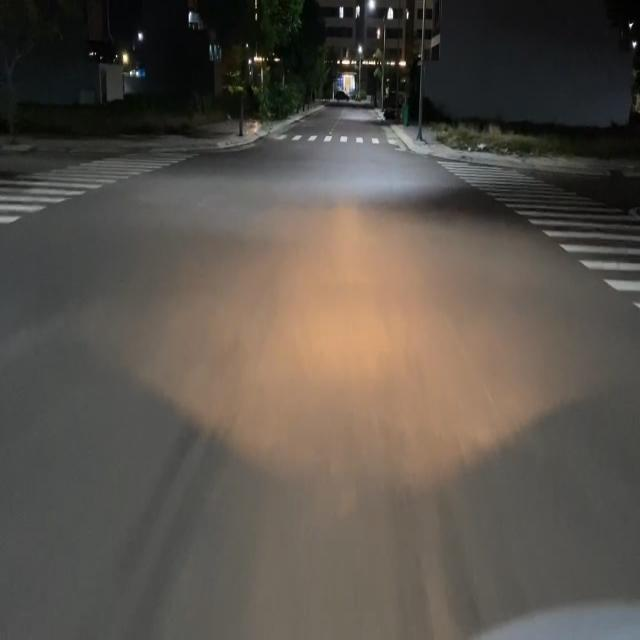walk-crossing: (436, 157, 640, 330), (0, 152, 210, 284)
